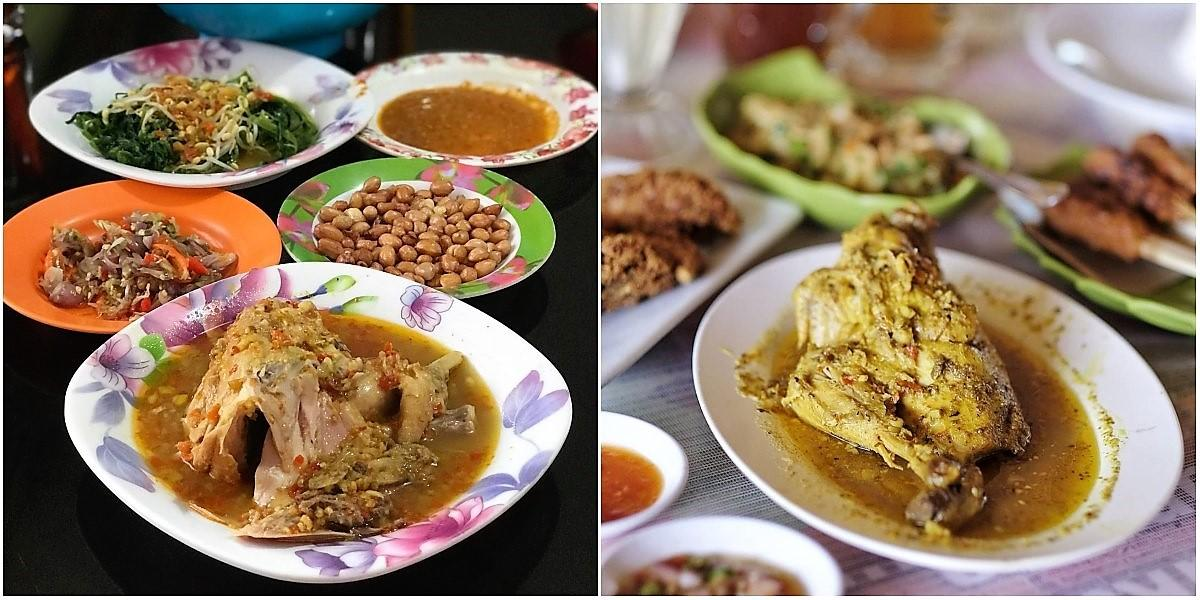ayam_betutu: (784, 210, 1035, 532)
